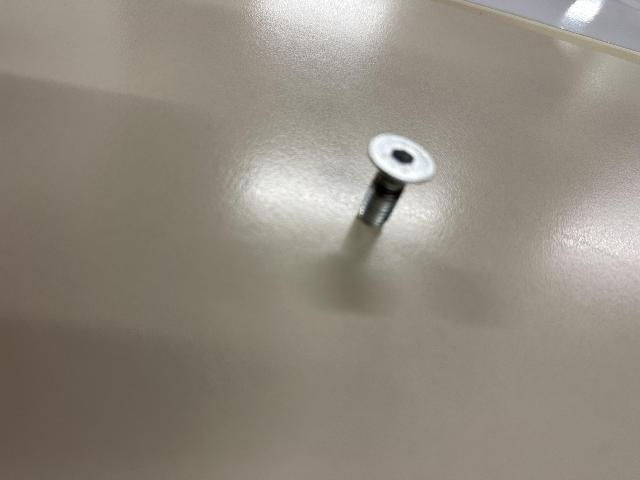Metal: (351, 133, 438, 222)
